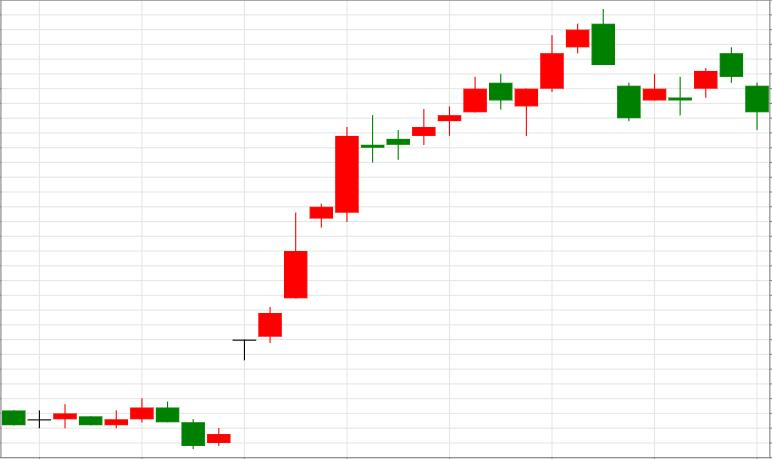bearish_engulfing_fall: (259, 10, 614, 344)
